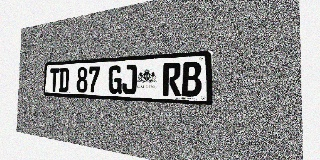7: (88, 66, 100, 93)
8: (76, 67, 88, 93)
B: (182, 61, 202, 97)
D: (59, 68, 69, 92)
G: (108, 65, 122, 94)
J: (122, 64, 137, 95)
R: (163, 62, 181, 96)
T: (50, 68, 59, 92)
